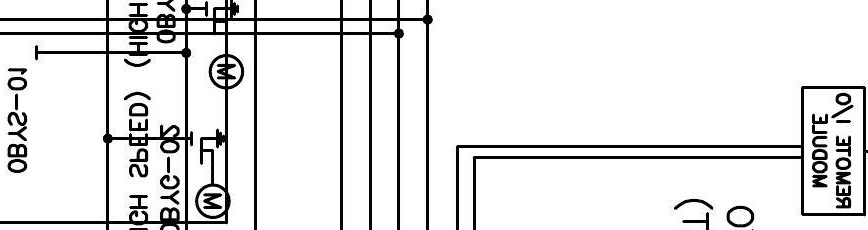115_gs_w_motor: (190, 127, 232, 220)
remote_io_module: (801, 86, 866, 217)
